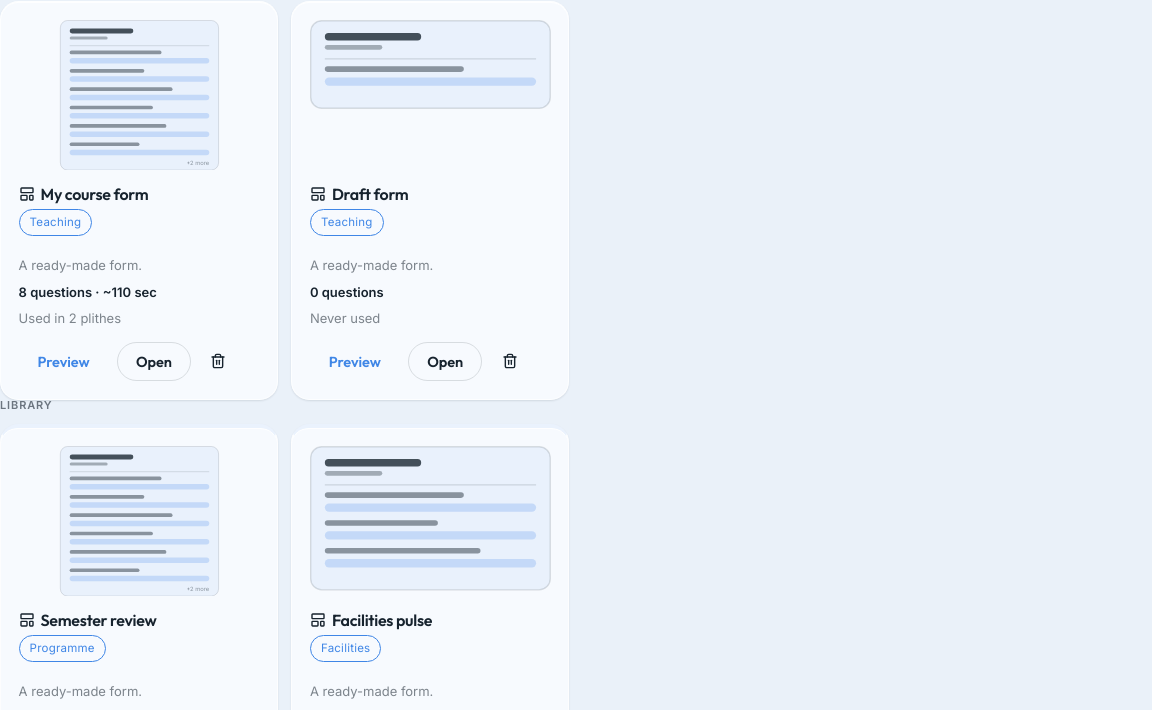
Test: delete states its consequence, and refuses when the server would › still handles a 409 from the server, because the count can be stale
(page scrolled)
Click the button named "Delete Draft form" below "Never used": (510, 360) 491,342 -> 529,380
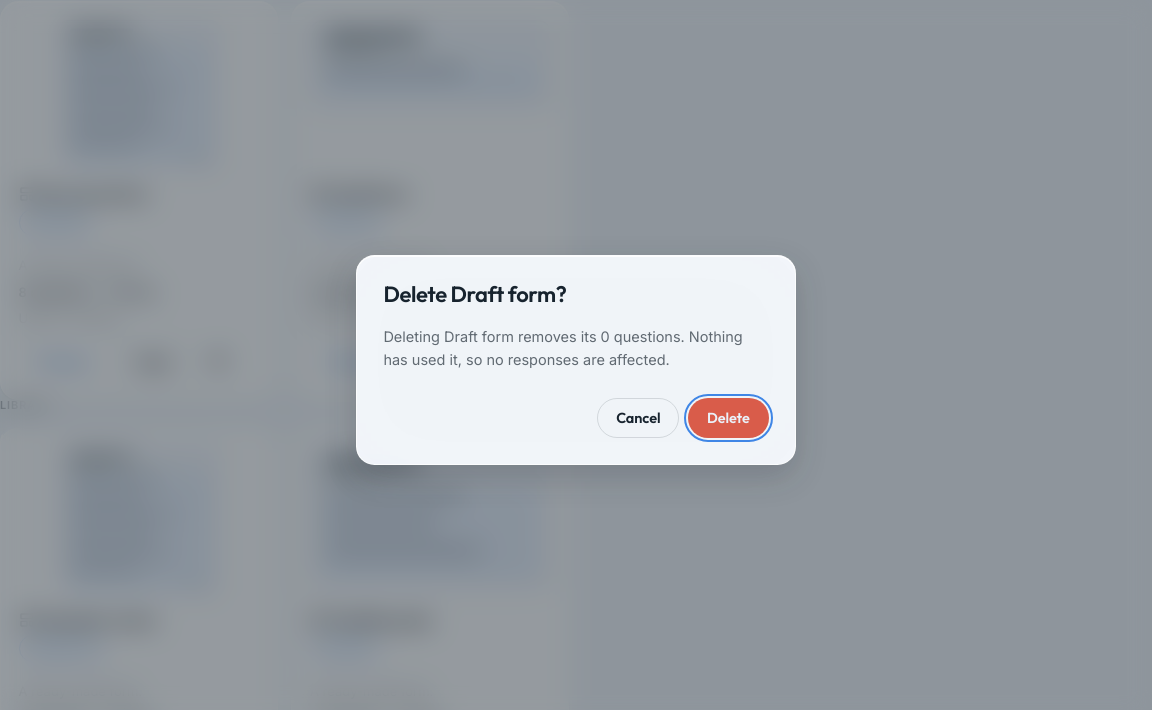
Click the button "Delete": (728, 418) 688,398 -> 769,438
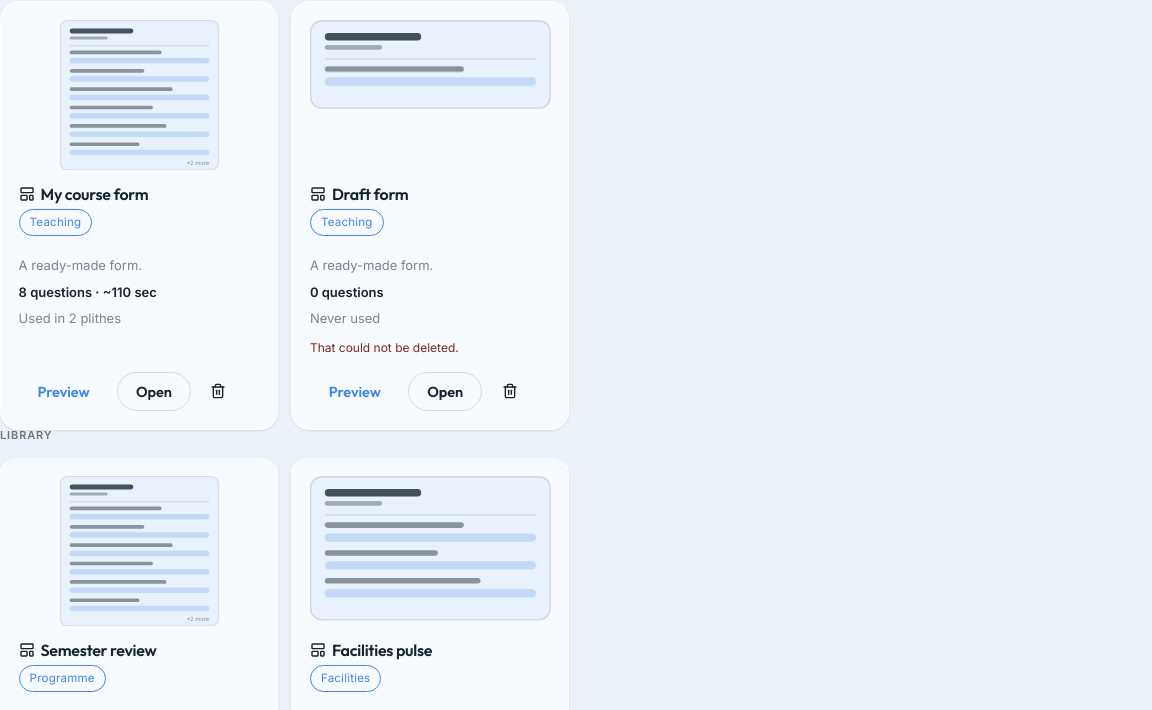
Now the message shows "could not be deleted", box 310,340 -> 459,355
